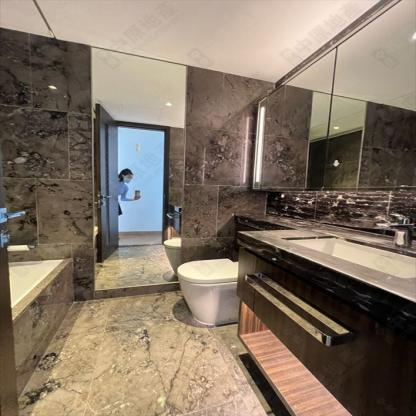Bathtub: (8, 257, 74, 397)
Faucet: (371, 211, 411, 250)
Toilet: (171, 258, 240, 326)
Toilet Sink: (280, 236, 415, 279)
